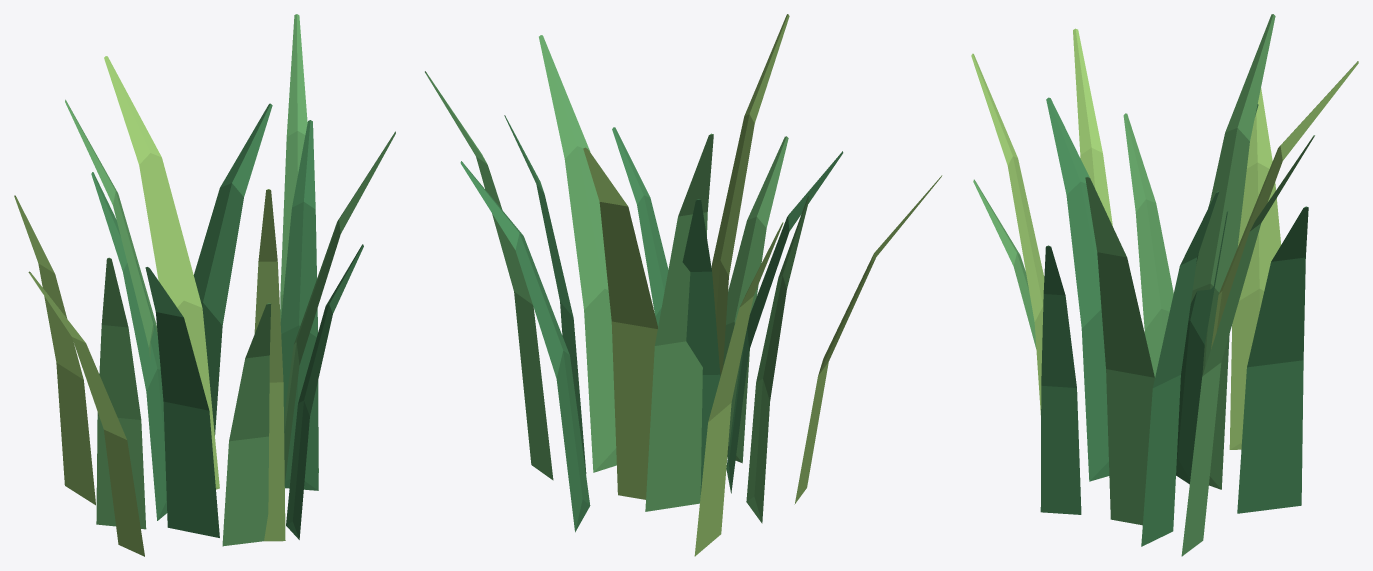
The model's file is grass_tussock_a.glb.
3 renders of one model, left to right at view 1: azimuth 30°, elevation 25°; view 2: azimuth 150°, elevation 25°; view 3: azimuth 270°, elevation 25°, orthographic. The views are drawn at different scales.
Parts seen in each view (by area): view 1: GrassTussockA; view 2: GrassTussockA; view 3: GrassTussockA.
Part boxes in pixels (left/top/right/bottom): GrassTussockA: left=14, top=14, right=395, bottom=556; GrassTussockA: left=425, top=14, right=942, bottom=556; GrassTussockA: left=971, top=14, right=1358, bottom=556.
Bounding box in the file's own units: 1.04 × 1.06 × 0.8427.
